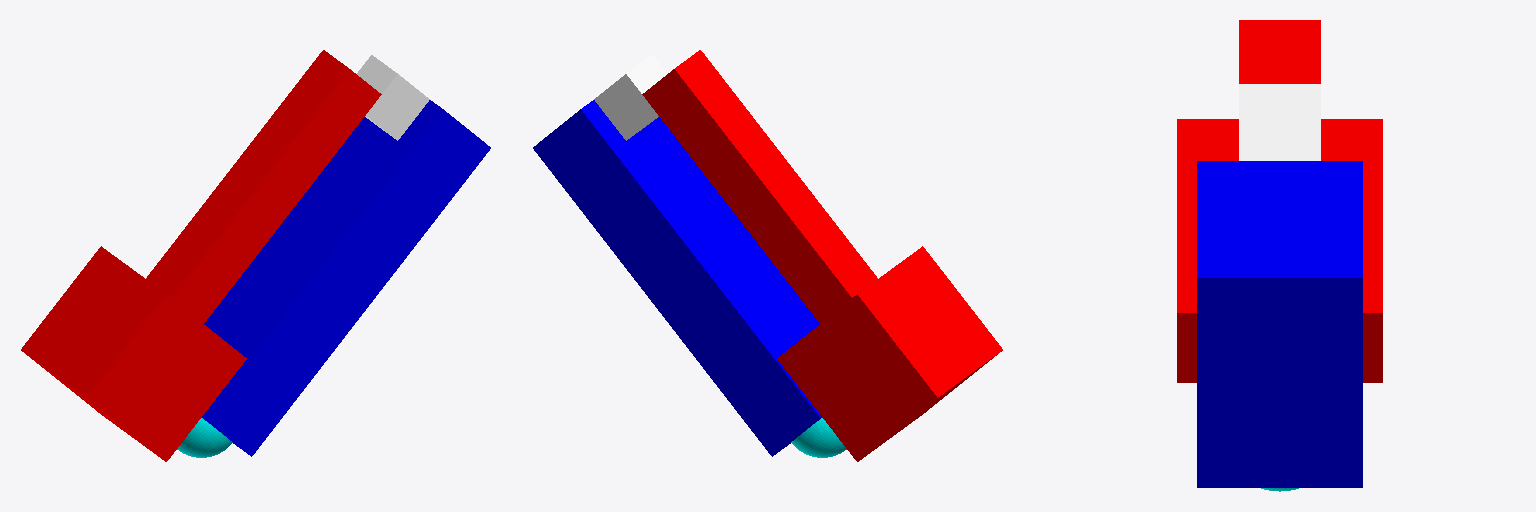
robot.urdf — test:
<?xml version="1.0" ?>
<robot name="test">
  <link name="foot_1">
    <visual name="foot_1_visual">
      <origin xyz="0 0 0" rpy="0 0 0"/>
      <geometry>
        <mesh filename="meshes/foot_1.stl"/>
      </geometry>
      <material name="foot_1-material">
        <color rgba="0 1 1 1"/>
      </material>
    </visual>
    <collision name="foot_1_collision">
      <origin xyz="0 0 0" rpy="0 0 0"/>
      <geometry>
        <mesh filename="meshes/foot_1.stl"/>
      </geometry>
    </collision>
    <inertial>
      <mass value="0"/>
      <inertia ixx="0" iyy="0" izz="0" ixy="0" ixz="0" iyz="0"/>
      <origin xyz="0 0 0" rpy="0 0 0"/>
    </inertial>
  </link>
  <link name="Part_2_1">
    <visual name="Part_2_1_visual">
      <origin xyz="0 0 0" rpy="0 0 0"/>
      <geometry>
        <mesh filename="meshes/Part_2_1.stl"/>
      </geometry>
      <material name="Part_2_1-material">
        <color rgba="0 0 1 1"/>
      </material>
    </visual>
    <collision name="Part_2_1_collision">
      <origin xyz="0 0 0" rpy="0 0 0"/>
      <geometry>
        <mesh filename="meshes/Part_2_1.stl"/>
      </geometry>
    </collision>
    <inertial>
      <mass value="0"/>
      <inertia ixx="0" iyy="0" izz="0" ixy="0" ixz="0" iyz="0"/>
      <origin xyz="-4.1359031e-19 0.0015 -2.7572687e-19" rpy="0 0 0"/>
    </inertial>
  </link>
  <link name="Part_3_1">
    <visual name="Part_3_1_visual">
      <origin xyz="0 0 0" rpy="0 0 0"/>
      <geometry>
        <mesh filename="meshes/Part_3_1.stl"/>
      </geometry>
      <material name="Part_3_1-material">
        <color rgba="1 1 1 1"/>
      </material>
    </visual>
    <collision name="Part_3_1_collision">
      <origin xyz="0 0 0" rpy="0 0 0"/>
      <geometry>
        <mesh filename="meshes/Part_3_1.stl"/>
      </geometry>
    </collision>
    <inertial>
      <mass value="0"/>
      <inertia ixx="0" iyy="0" izz="0" ixy="0" ixz="0" iyz="0"/>
      <origin xyz="-0.015948197 0 0.014494675" rpy="0 0 0"/>
    </inertial>
  </link>
  <link name="Part_4_1">
    <visual name="Part_4_1_visual">
      <origin xyz="0 0 0" rpy="0 0 0"/>
      <geometry>
        <mesh filename="meshes/Part_4_1.stl"/>
      </geometry>
      <material name="Part_4_1-material">
        <color rgba="1 0 0 1"/>
      </material>
    </visual>
    <collision name="Part_4_1_collision">
      <origin xyz="0 0 0" rpy="0 0 0"/>
      <geometry>
        <mesh filename="meshes/Part_4_1.stl"/>
      </geometry>
    </collision>
    <inertial>
      <mass value="0"/>
      <inertia ixx="0" iyy="0" izz="0" ixy="0" ixz="0" iyz="0"/>
      <origin xyz="-0.014948197 0 0.016494675" rpy="0 0 0"/>
    </inertial>
  </link>
  <joint name="Revolute_1" type="revolute">
    <origin xyz="-2.1684043e-19 0 0.0015" rpy="-1.5707963 0 0"/>
    <parent link="foot_1"/>
    <child link="Part_2_1"/>
    <axis xyz="0 0 -1"/>
    <limit effort="1" velocity="1" lower="-6.2831853" upper="6.2831853"/>
  </joint>
  <joint name="Slider_1" type="prismatic">
    <origin xyz="0.0094664182 -0.011587739 -2.7572687e-19" rpy="-1.5707963 0 -0.78539816"/>
    <parent link="Part_2_1"/>
    <child link="Part_3_1"/>
    <axis xyz="0 0 -1"/>
    <limit effort="1" velocity="1" lower="-0.1" upper="0.1"/>
  </joint>
  <joint name="Revolute_2" type="revolute">
    <origin xyz="-0.001 -4.1359031e-19 -0.002" rpy="0 0 0"/>
    <parent link="Part_3_1"/>
    <child link="Part_4_1"/>
    <axis xyz="0 0 -1"/>
    <limit effort="1" velocity="1" lower="-6.2831853" upper="6.2831853"/>
  </joint>
</robot>

--- Render facts (derived) ---
The picture shows the robot from 3 angles, left to right: view 1: azimuth 30°, elevation 25°; view 2: azimuth 150°, elevation 25°; view 3: azimuth 270°, elevation 25°; orthographic projection.
Robot: test — 4 links, 3 joints (2 revolute, 1 prismatic); root link foot_1; default pose: every joint at zero.
Links seen in each view (by area): view 1: Part_4_1, Part_2_1, Part_3_1, foot_1; view 2: Part_4_1, Part_2_1, Part_3_1, foot_1; view 3: Part_2_1, Part_4_1, Part_3_1.
Boxes of the visible links, box(x1,y1,x2,y2) form: Part_4_1: box(21, 50, 381, 461); Part_2_1: box(202, 100, 490, 456); Part_3_1: box(357, 55, 429, 140); foot_1: box(177, 418, 232, 457); Part_4_1: box(642, 50, 1002, 461); Part_2_1: box(533, 100, 821, 456); Part_3_1: box(594, 55, 666, 140); foot_1: box(791, 418, 846, 457); Part_2_1: box(1197, 161, 1362, 487); Part_4_1: box(1177, 20, 1382, 382); Part_3_1: box(1239, 84, 1320, 160).
Size in the robot's own frame: 0.0181 by 0.005 by 0.0152 metres.
4 mesh visuals loaded from 4 distinct referenced files (4 binary STL).